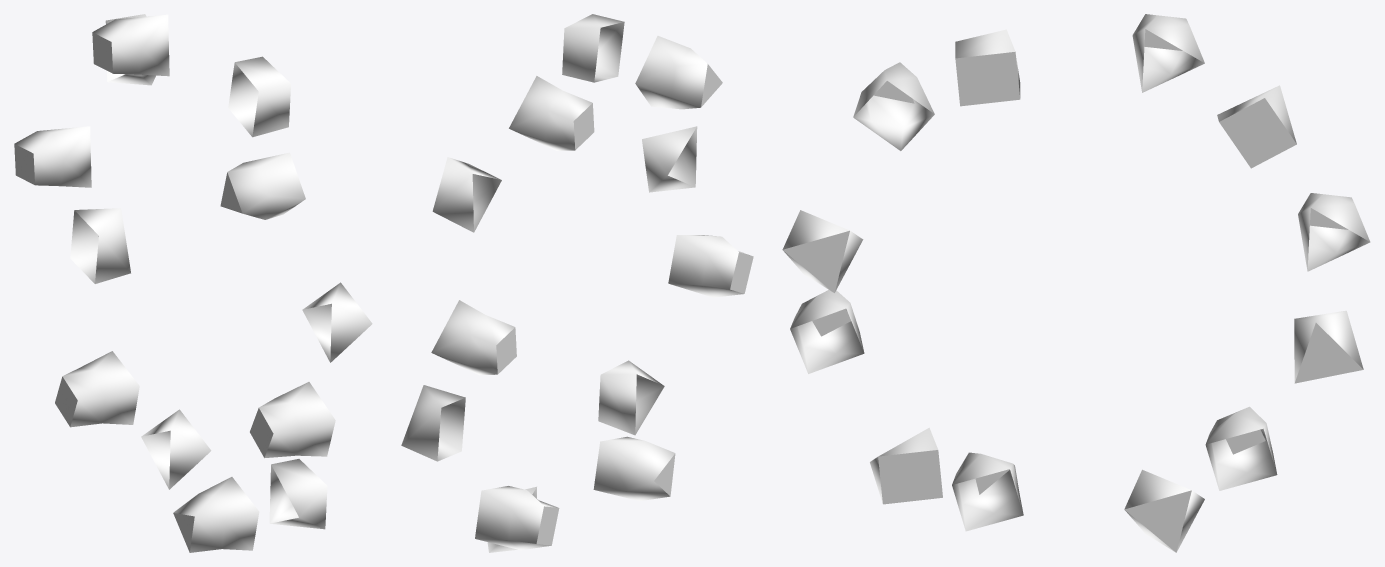
The picture shows the model from 3 angles, left to right: view 1: azimuth 30°, elevation 25°; view 2: azimuth 150°, elevation 25°; view 3: azimuth 270°, elevation 25°; orthographic projection. The views are drawn at different scales.
Size of the model in its own units: 0.0557 by 0.2828 by 0.2974.
Materials: 1 (1 with a texture image).
